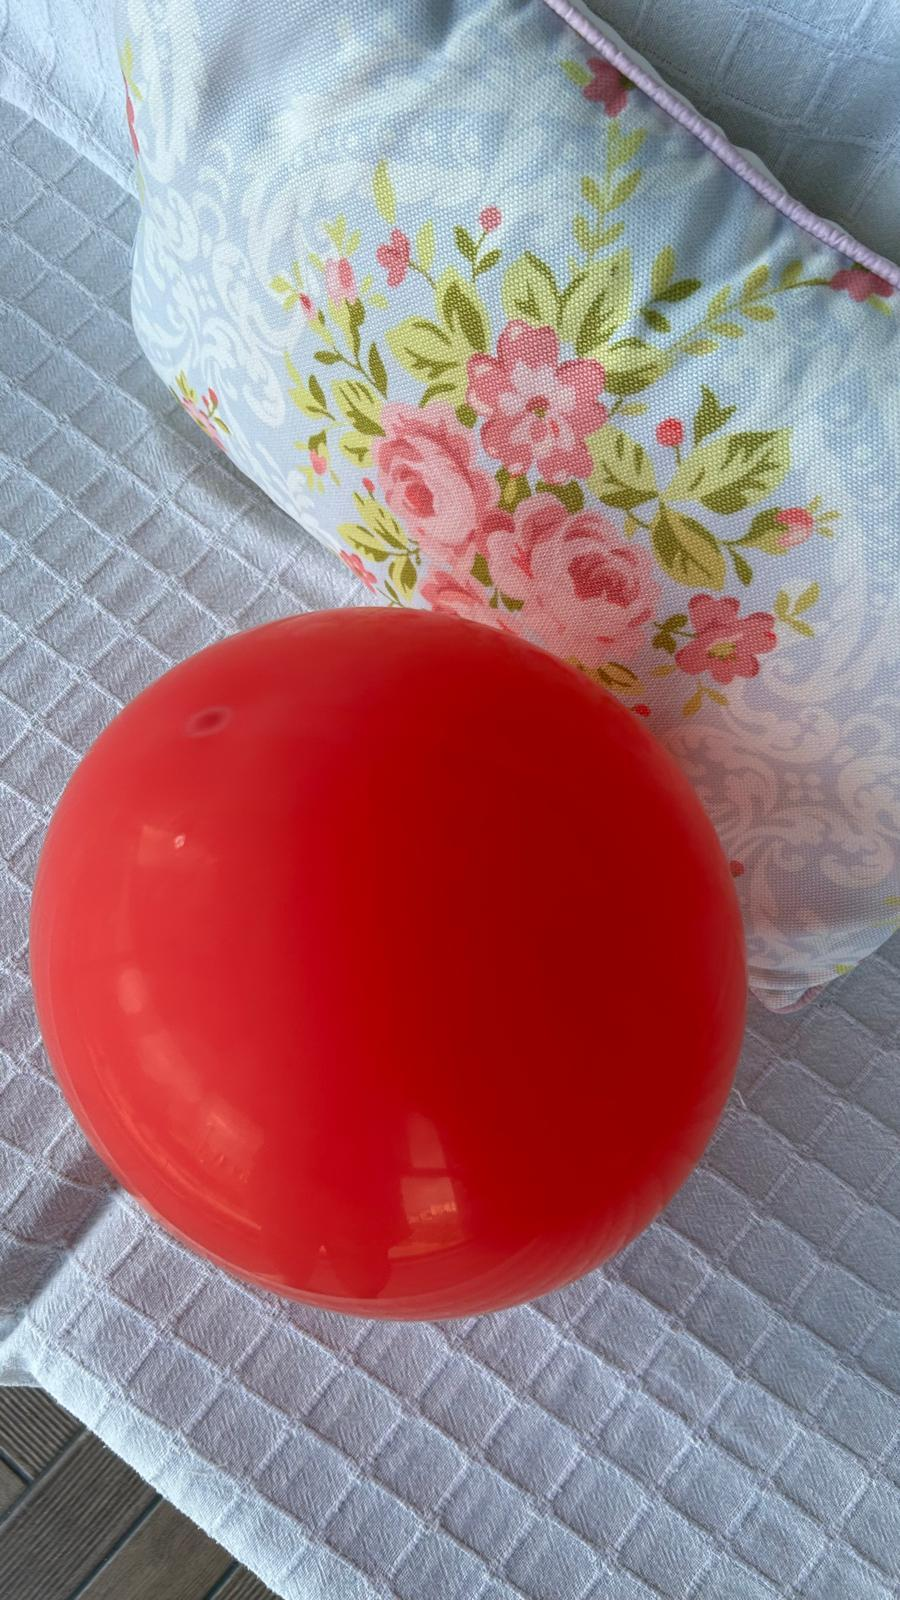red: (27, 601, 754, 1314)
